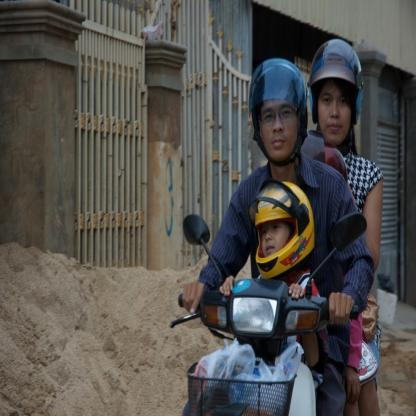Helmet: (308, 37, 366, 150), (248, 178, 317, 272), (248, 60, 308, 164)
